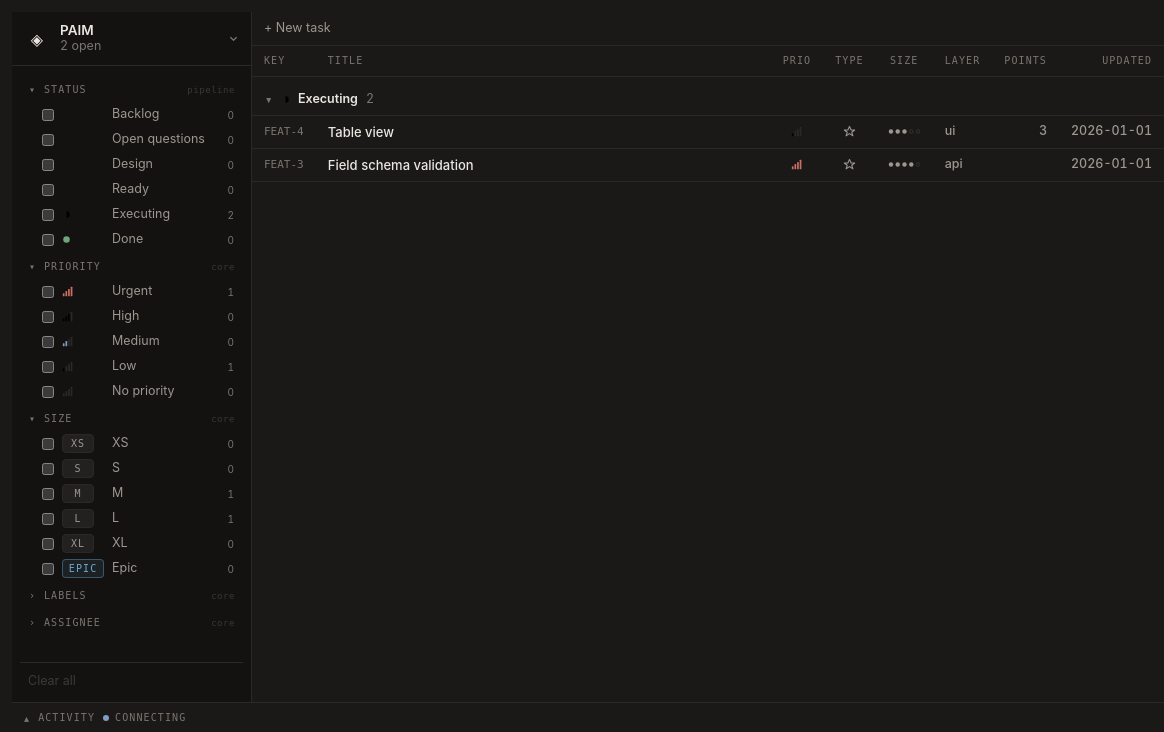
Test: opening a cell › puts a menu in an enum-like cell
Click the cell named "Low": (797, 132) 771,115 -> 823,148
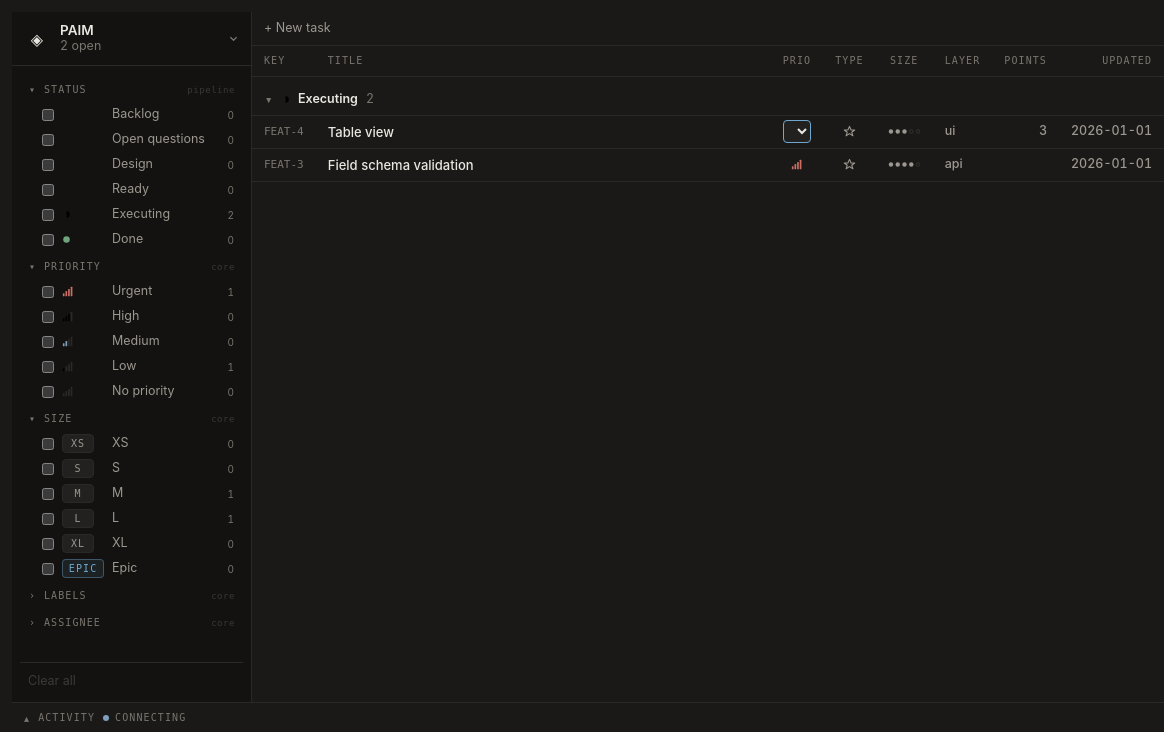
Check: the dropdown named "Prio of FEAT-4" shows "Low", box 783,120 -> 811,143
